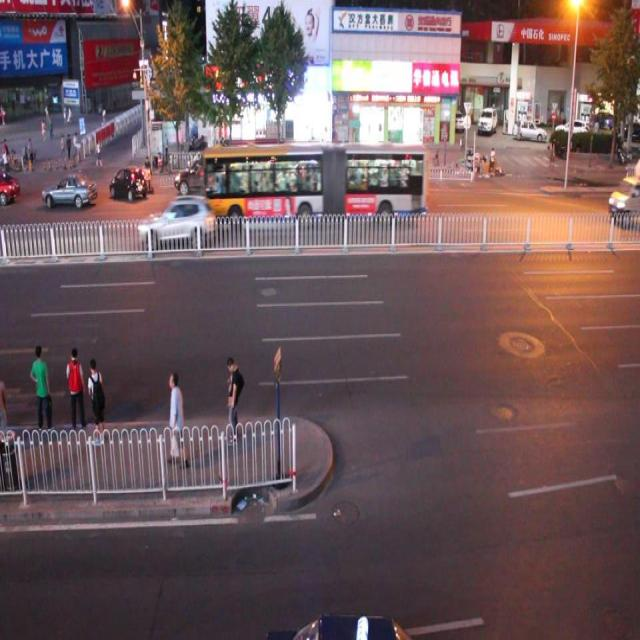bus: (607, 167, 640, 224)
car: (263, 611, 415, 640), (139, 194, 216, 247), (42, 174, 97, 208), (363, 156, 409, 194), (176, 155, 222, 192), (279, 159, 326, 194), (110, 164, 148, 200), (1, 168, 20, 207)
van: (200, 142, 429, 225)
